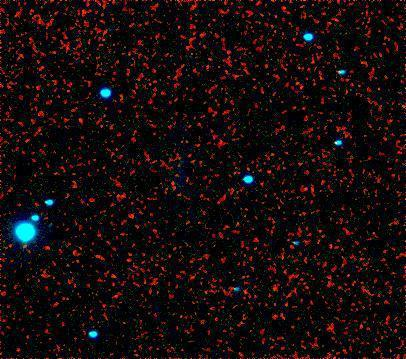star: (292, 175, 322, 205)
